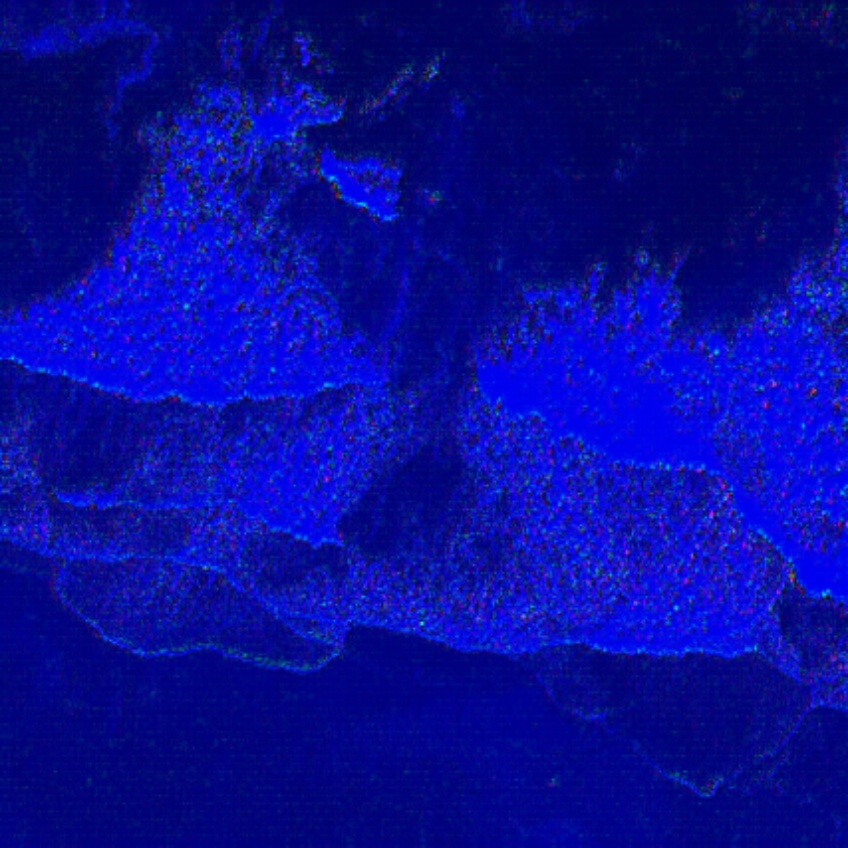rip_current: (264, 63, 570, 593)
